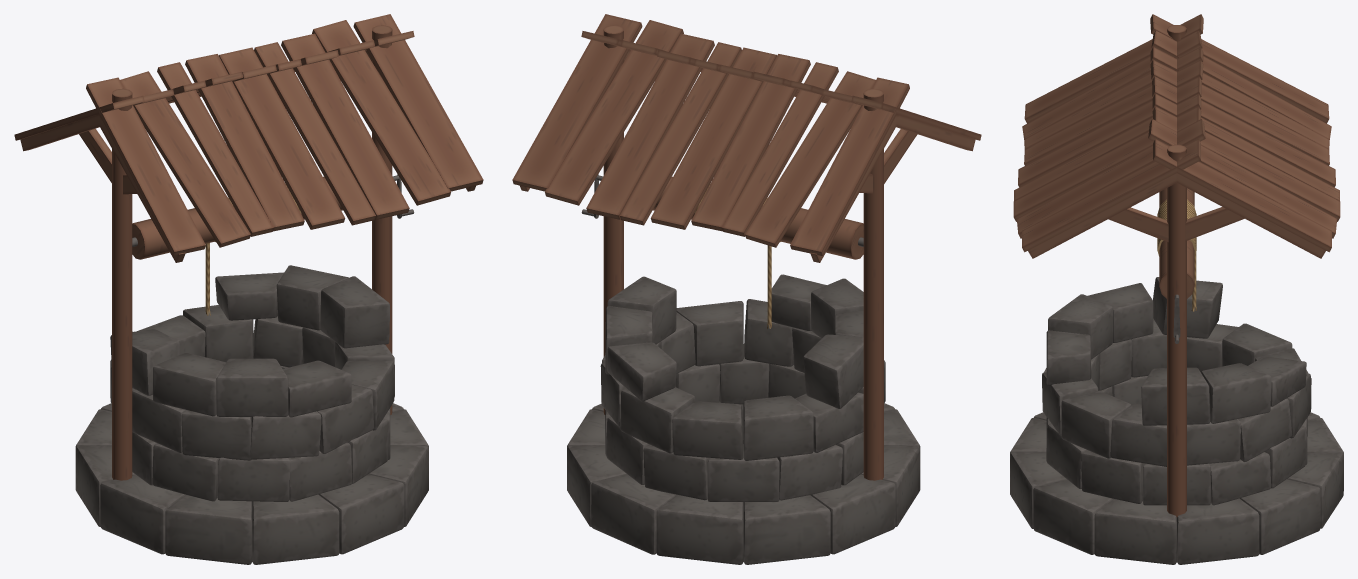
File: stone_well_stylized.glb
The picture shows the model from 3 angles, left to right: view 1: azimuth 30°, elevation 25°; view 2: azimuth 150°, elevation 25°; view 3: azimuth 270°, elevation 25°; orthographic projection. The views are drawn at different scales.
Visible parts, largest first — view 1: StoneBase, Roof, Poles, Winch; view 2: StoneBase, Roof, Poles, Winch; view 3: StoneBase, Roof, Poles, Winch.
Boxes of the visible parts, x1,y1,x2,y2 form: StoneBase: (75, 265, 428, 564); Roof: (14, 14, 483, 262); Poles: (79, 25, 392, 480); Winch: (132, 176, 342, 259); StoneBase: (567, 274, 920, 564); Roof: (512, 14, 981, 262); Poles: (603, 25, 917, 480); Winch: (653, 176, 863, 259); StoneBase: (1010, 277, 1343, 564); Roof: (1013, 14, 1340, 258); Poles: (1108, 25, 1244, 517); Winch: (1157, 188, 1196, 298).
Size of the model in its own units: 186 by 243 by 179.
1 material, 1 textured.
